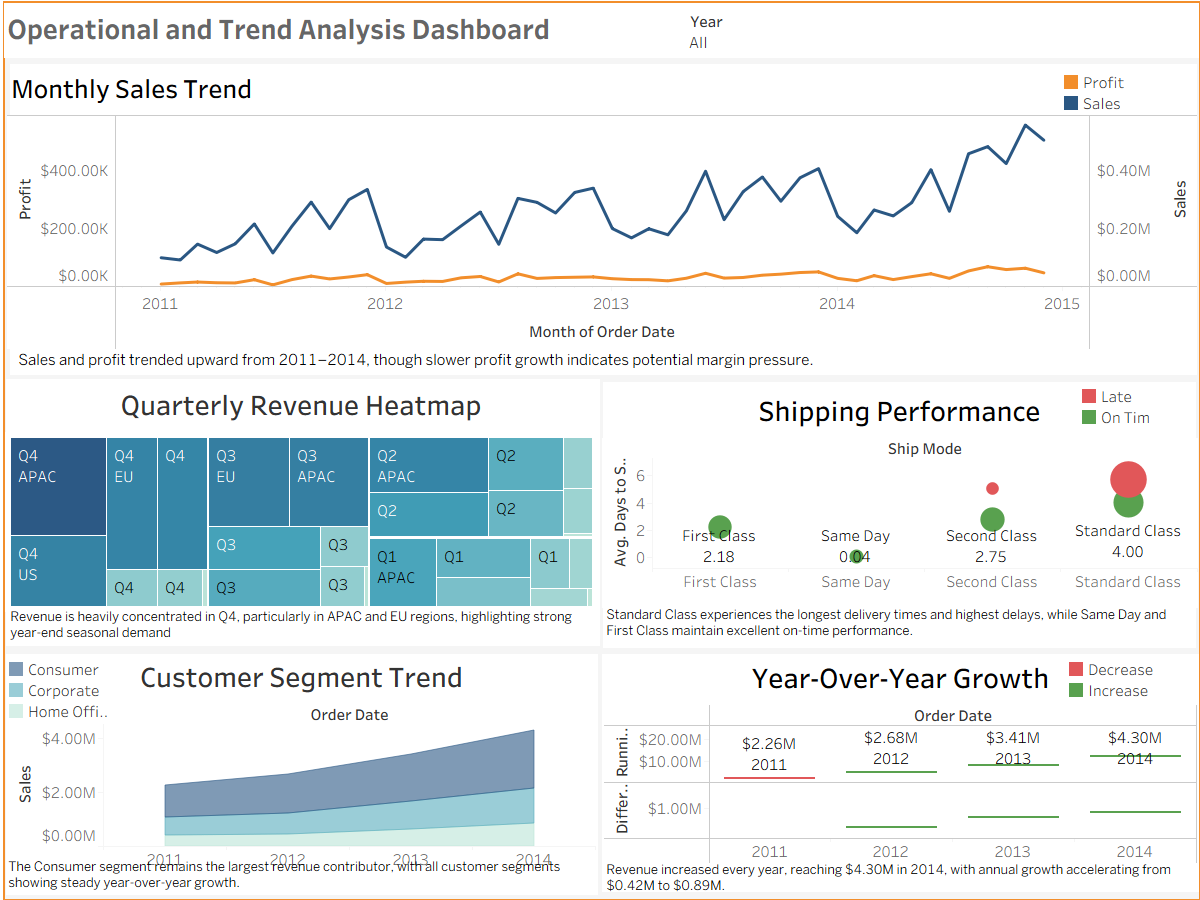

What the dashboard file says about the page in this screenshot:
{"tool":"tableau","page":{"name":"Operations and trend","canvas":[1200,900],"ordinal":1},"visuals":[{"type":"text","box":[4,7,597,42]},{"type":"filter","title":"year","param":"[federated.0wt0wbq0h1f5od131h4sz0xtgfsv].[none:Order_Year:ok]","box":[687,10,160,46]},{"type":"worksheet","title":"year","mark":"Automatic","box":[665,19,251,14]},{"type":"worksheet","title":"Monthly Sales Trend","mark":"Automatic","rows":["Profit","Sales"],"cols":["Order_Date"],"box":[7,65,1191,285]},{"type":"legend","title":"Monthly Sales Trend","param":"[federated.0wt0wbq0h1f5od131h4sz0xtgfsv].[:Measure Names]","box":[1061,72,132,45]},{"type":"text","box":[15,343,1181,32]},{"type":"worksheet","title":"QuarterlyRevenueHeatmap","mark":"Automatic","box":[5,380,592,232]},{"type":"worksheet","title":"ShippingPerformance","mark":"Circle","rows":["Days_to_Ship"],"cols":["Ship_Mode"],"box":[602,386,595,222]},{"type":"legend","title":"ShippingPerformance","param":"[federated.0wt0wbq0h1f5od131h4sz0xtgfsv].[none:Calculation_0570930471153664:nk]","box":[1079,386,119,44]},{"type":"text","box":[603,597,595,51]},{"type":"text","box":[7,604,592,42]},{"type":"worksheet","title":"CustomerSegmentTrend","mark":"Area","rows":["Sales"],"cols":["Order_Date"],"box":[7,652,589,219]},{"type":"worksheet","title":"YoYGrowth","mark":"GanttBar","rows":["Sales","Sales"],"cols":["Order_Date"],"box":[604,653,593,211]},{"type":"legend","title":"CustomerSegmentTrend","param":"[federated.0wt0wbq0h1f5od131h4sz0xtgfsv].[none:Segment:nk]","box":[6,659,106,65]},{"type":"legend","title":"YoYGrowth","param":"[federated.0wt0wbq0h1f5od131h4sz0xtgfsv].[usr:Calculation_0509358028705795:nk]","box":[1066,659,131,45]},{"type":"text","box":[5,854,593,42]},{"type":"text","box":[603,857,597,42]}]}

Visuals, with their boxes in screenshot pixels (x1, y1, x2, y2), scaled from the page's 1200x900 canvas onto the 1200x900 screenshot:
text: Rect(4, 7, 601, 49)
"year" filter: Rect(687, 10, 847, 56)
"year" worksheet: Rect(665, 19, 916, 33)
"Monthly Sales Trend" worksheet: Rect(7, 65, 1198, 350)
"Monthly Sales Trend" legend: Rect(1061, 72, 1193, 117)
text: Rect(15, 343, 1196, 375)
"QuarterlyRevenueHeatmap" worksheet: Rect(5, 380, 597, 612)
"ShippingPerformance" worksheet (Circle marks): Rect(602, 386, 1197, 608)
"ShippingPerformance" legend: Rect(1079, 386, 1198, 430)
text: Rect(603, 597, 1198, 648)
text: Rect(7, 604, 599, 646)
"CustomerSegmentTrend" worksheet (Area marks): Rect(7, 652, 596, 871)
"YoYGrowth" worksheet (GanttBar marks): Rect(604, 653, 1197, 864)
"CustomerSegmentTrend" legend: Rect(6, 659, 112, 724)
"YoYGrowth" legend: Rect(1066, 659, 1197, 704)
text: Rect(5, 854, 598, 896)
text: Rect(603, 857, 1199, 899)
